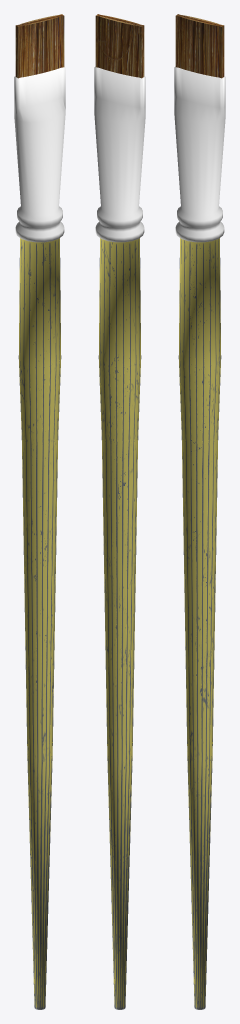
File: pincel_TEXTURIZADO.fbx
The picture shows the model from 3 angles, left to right: view 1: azimuth 30°, elevation 25°; view 2: azimuth 150°, elevation 25°; view 3: azimuth 330°, elevation 25°; orthographic projection.
Visible parts, largest first — view 1: Circle.008; view 2: Circle.008; view 3: Circle.008.
Part boxes in pixels (x1,y1,x2,y2): Circle.008: (14,14,65,1009); Circle.008: (94,14,145,1009); Circle.008: (174,14,225,1009).
Bounding box in the file's own units: 1.73 × 33.99 × 1.53.
2 materials, 2 textured.
